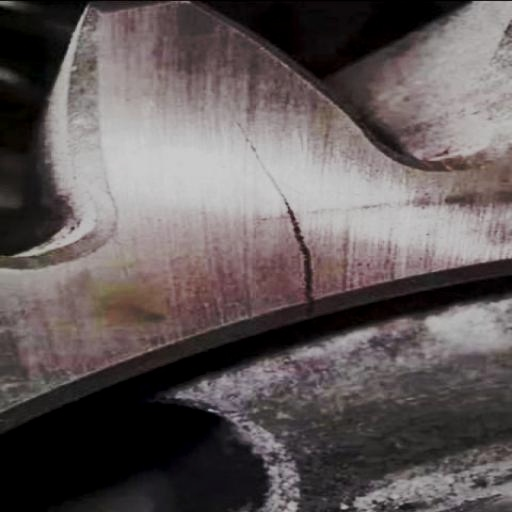crack: (227, 108, 335, 317)
